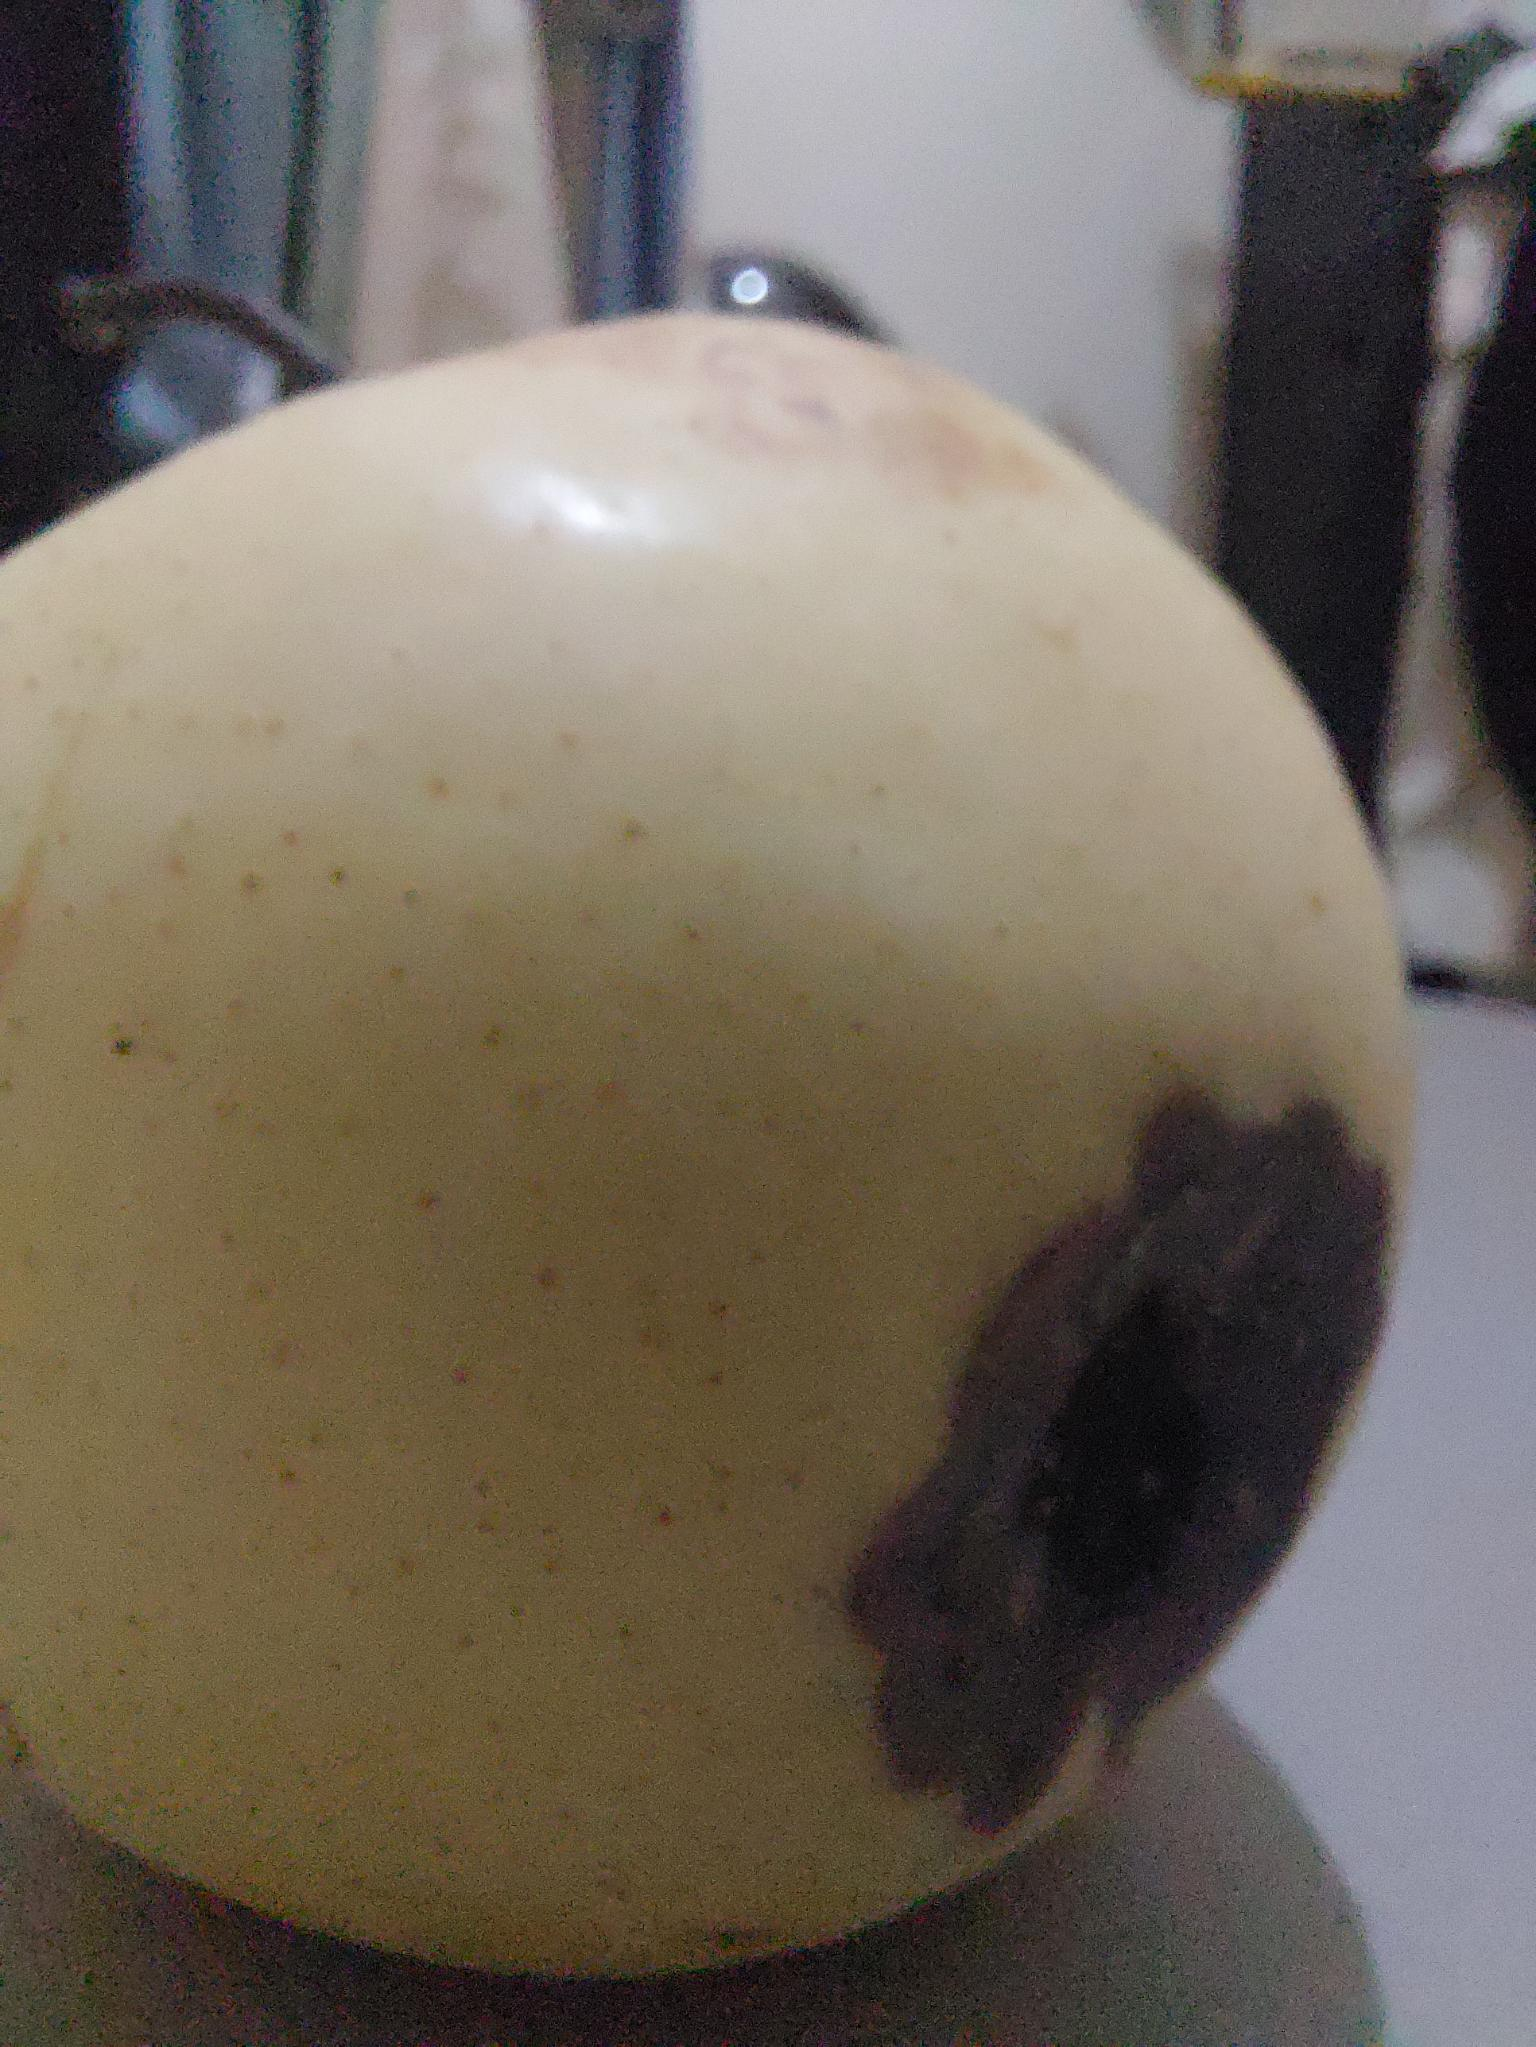Bad Pear: (0, 303, 1441, 2031)
